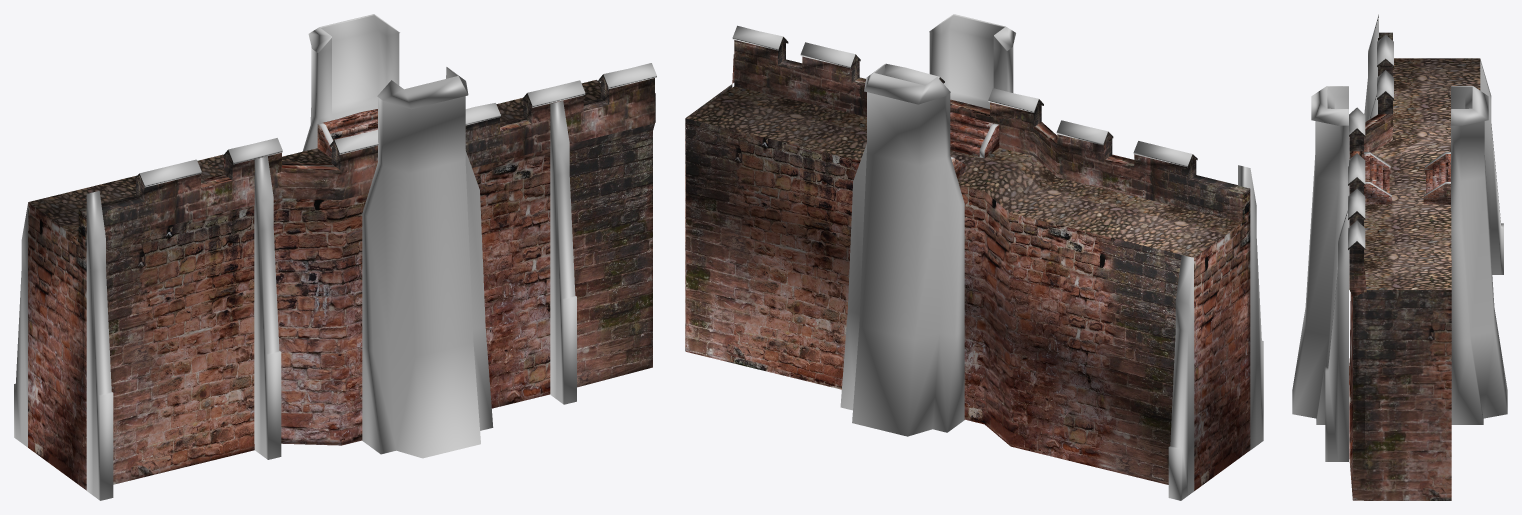
Rendered from WallB.fbx.
3 renders of one model, left to right at view 1: azimuth 30°, elevation 25°; view 2: azimuth 150°, elevation 25°; view 3: azimuth 270°, elevation 25°, orthographic. The views are drawn at different scales.
Visible parts, largest first — view 1: WallB; view 2: WallB; view 3: WallB.
Boxes of the visible parts, x1=… form: WallB: x1=14, y1=14, x2=656, y2=500; WallB: x1=685, y1=14, x2=1263, y2=500; WallB: x1=1292, y1=14, x2=1507, y2=500.
Size of the model in its own units: 605 by 371 by 237.
